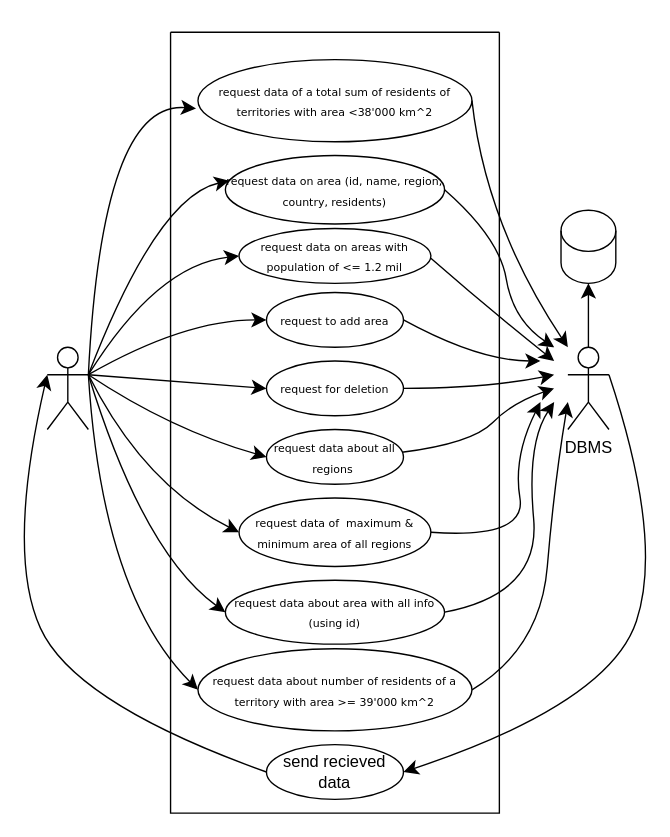
Image size: 670x837. Some labels were removed from this diagram. Each missing label, with the centre of its shape:
"DB" goes at point 588,246.
"system" goes at point 334,422.
"User" goes at point 67,387.
